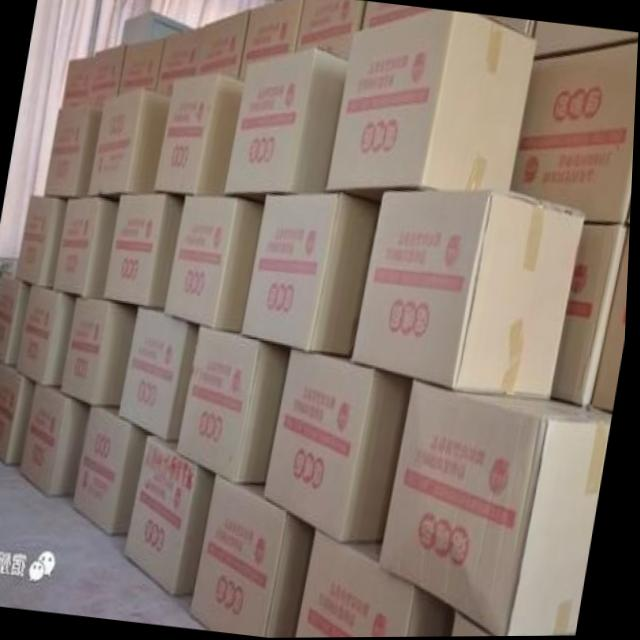box: (384, 380, 616, 637), (353, 191, 586, 400), (327, 9, 538, 205), (267, 350, 416, 542), (513, 44, 638, 224), (244, 194, 380, 357), (195, 472, 320, 638), (224, 50, 349, 203), (180, 325, 294, 484), (300, 530, 460, 638), (127, 434, 217, 597), (167, 194, 266, 332), (554, 225, 629, 406), (121, 306, 201, 439), (157, 76, 243, 195), (75, 406, 151, 534), (89, 91, 170, 204), (106, 194, 184, 309), (64, 297, 138, 407), (22, 383, 91, 498), (595, 228, 632, 413), (54, 196, 120, 298), (18, 286, 77, 385), (46, 104, 103, 196), (239, 0, 300, 81), (18, 196, 67, 286), (295, 0, 363, 60), (0, 363, 39, 463), (194, 9, 248, 80), (533, 21, 639, 56), (0, 274, 33, 364), (157, 29, 201, 96), (119, 38, 164, 96), (360, 1, 439, 30), (89, 45, 125, 108), (63, 55, 94, 107), (488, 15, 535, 38), (489, 16, 536, 36)
